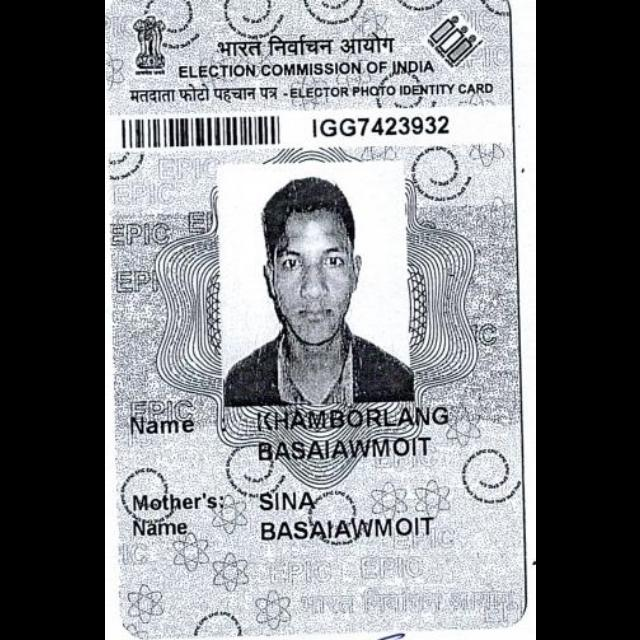voter_id: (104, 0, 530, 640)
